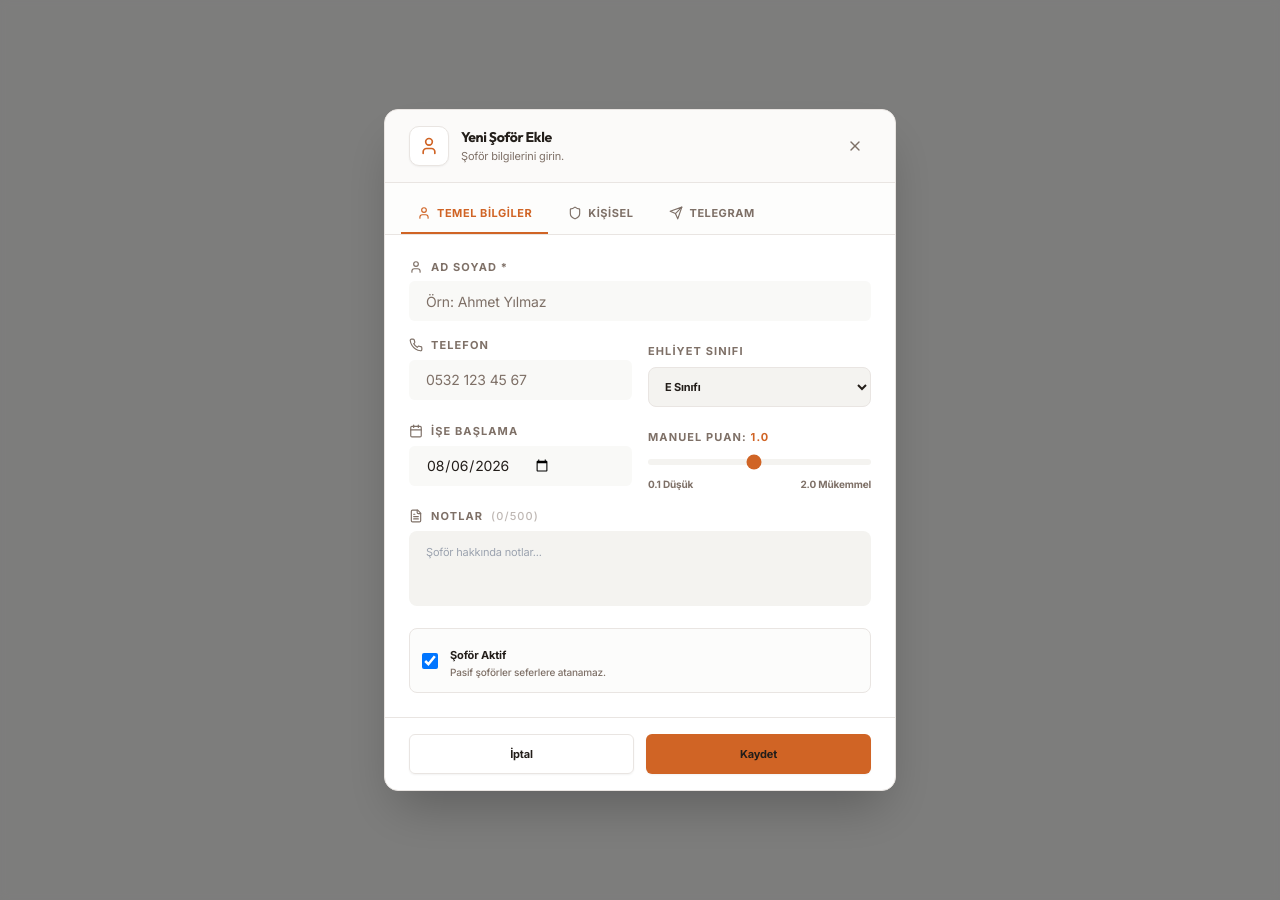
Test case: DriverModal — create mode › shows validation error for short name
In the field with placeholder "Örn: Ahmet Yılmaz": (640, 301) top-left (409, 281), bottom-right (871, 321), type "A"
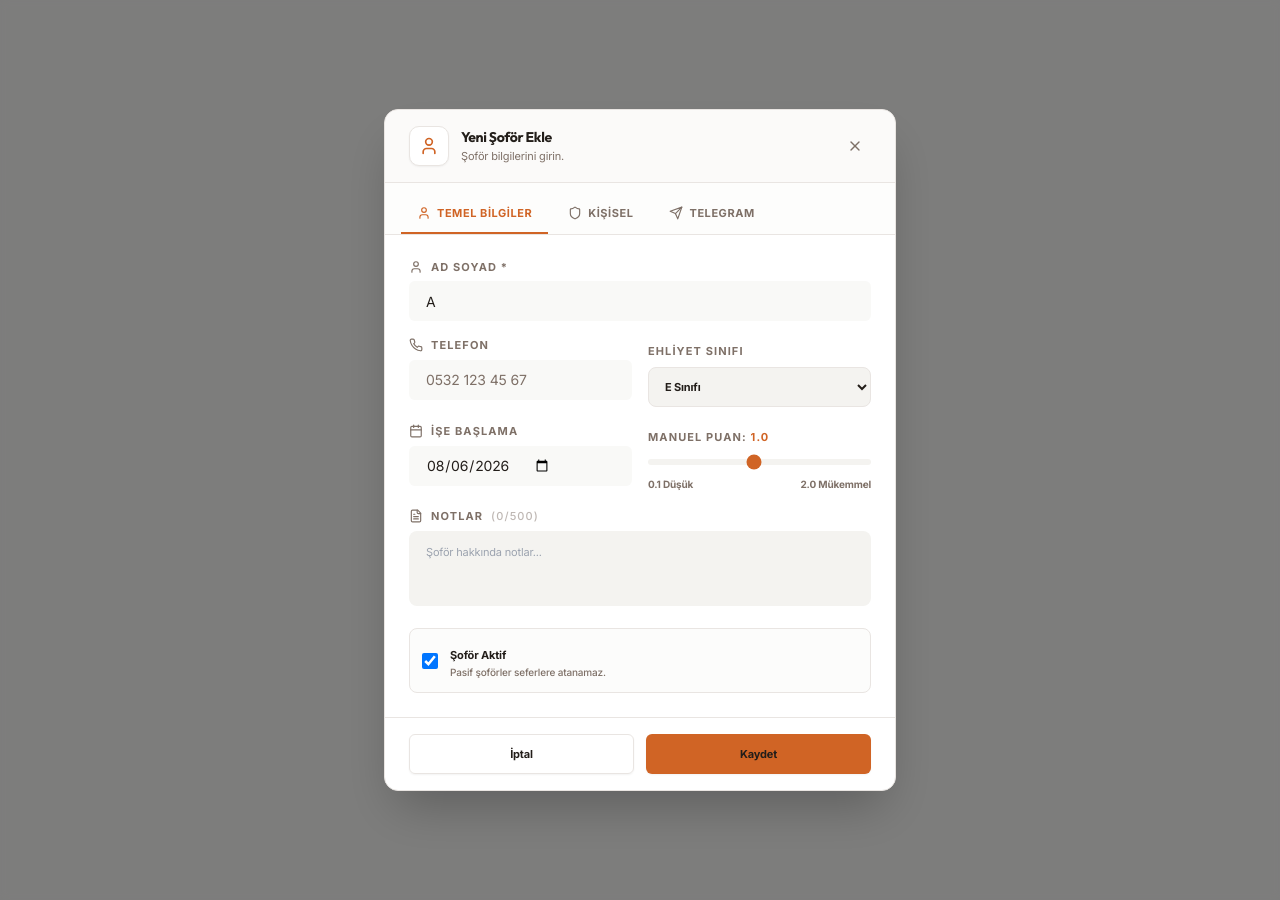
Click the button "Kaydet": (758, 754) top-left (646, 734), bottom-right (871, 774)
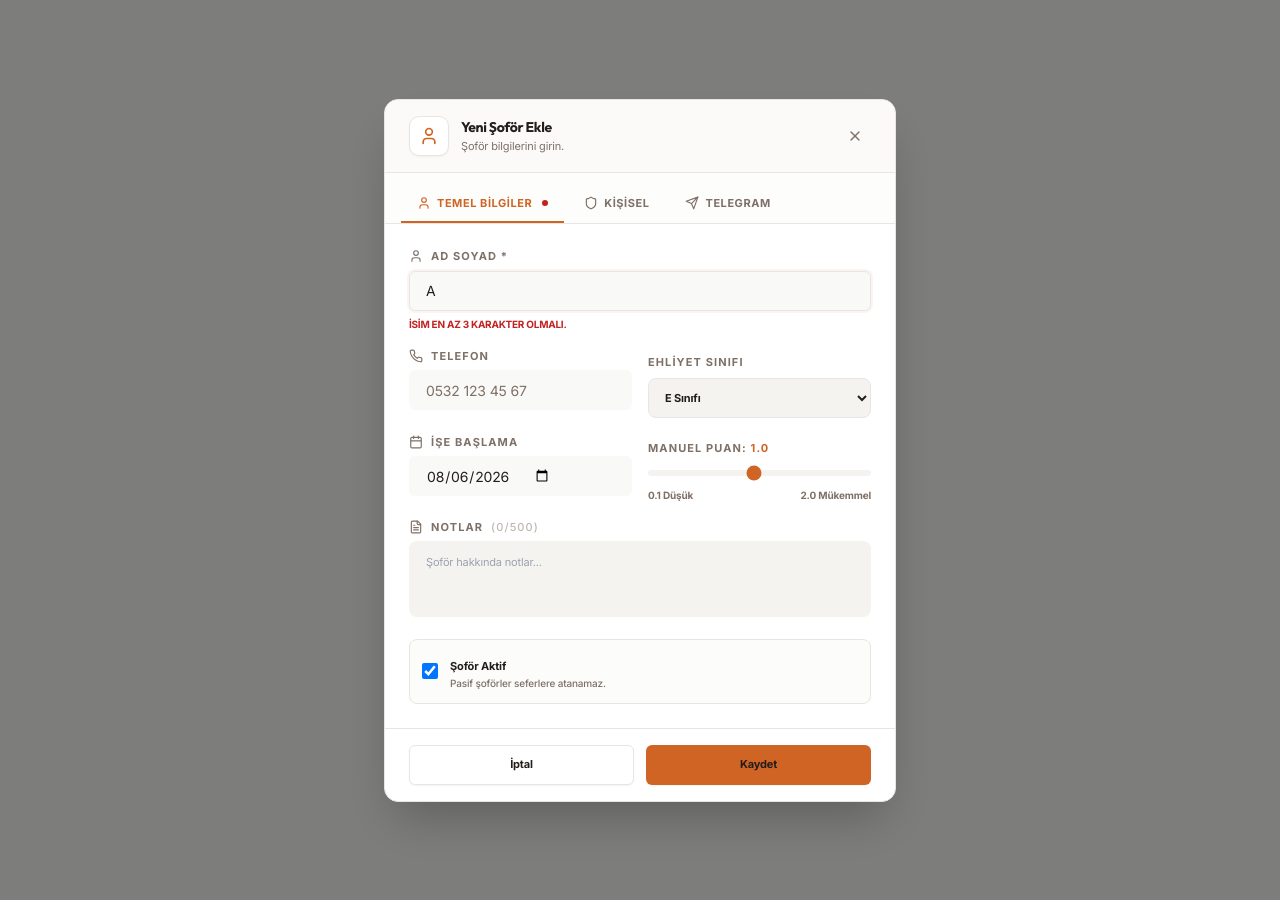
Now the text "İsim en az 3 karakter olmalı." is shown, box top-left (409, 318), bottom-right (566, 330)
